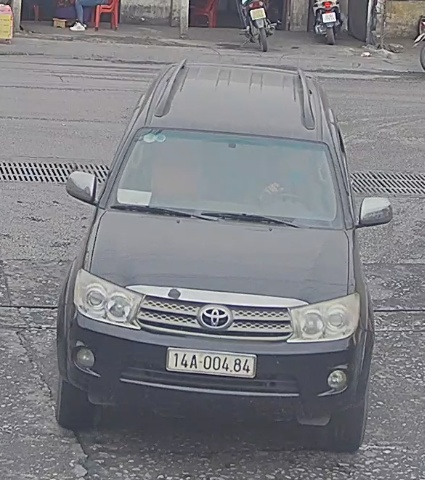vehicle plate: (164, 339, 258, 387)
